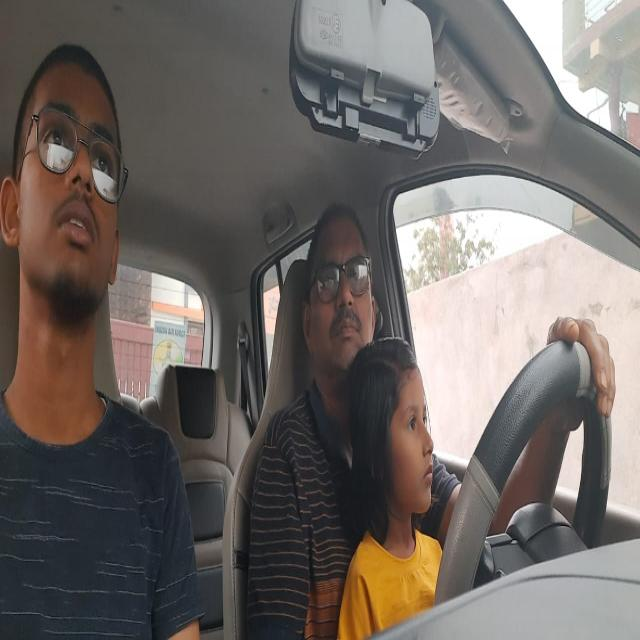person: (0, 30, 132, 329), (301, 202, 376, 374)
